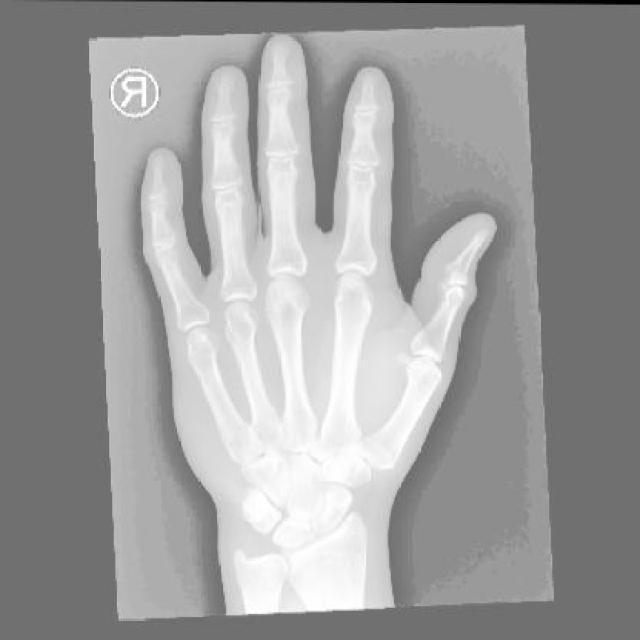Fracture: (289, 509, 322, 539)
